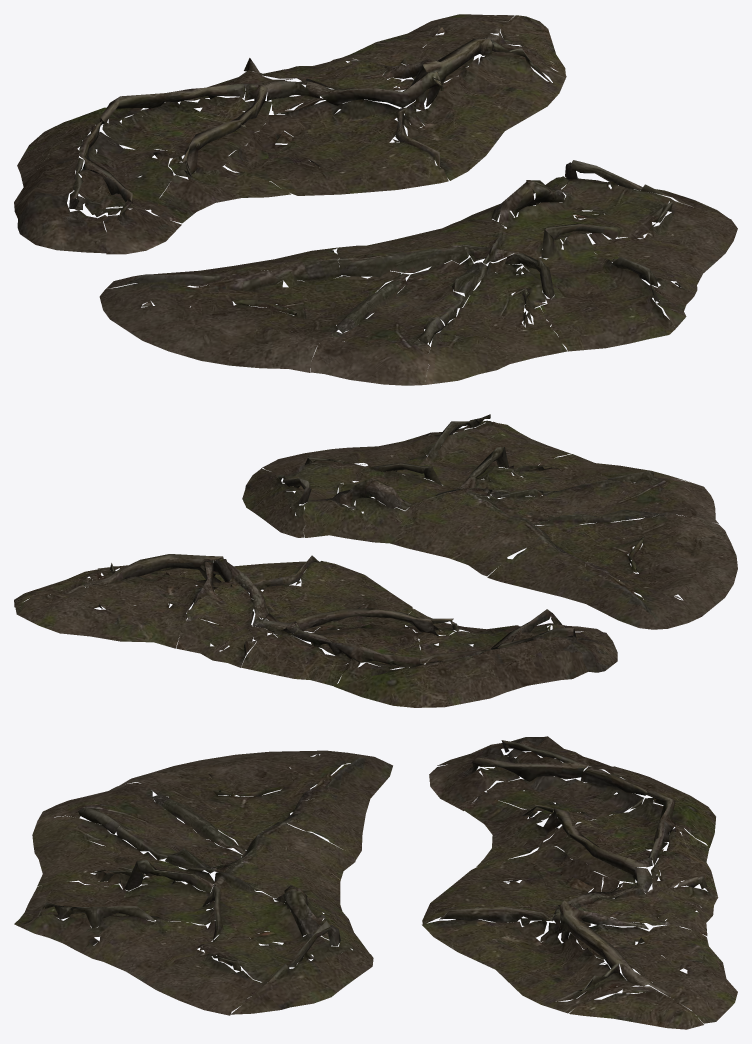
File: pine_roots.glb
3 renders of one model, top to bottom at view 1: azimuth 30°, elevation 25°; view 2: azimuth 150°, elevation 25°; view 3: azimuth 270°, elevation 25°, orthographic. The views are drawn at different scales.
Parts seen in each view (by area): view 1: pine_roots_b, pine_roots_a; view 2: pine_roots_b, pine_roots_a; view 3: pine_roots_b, pine_roots_a.
Part boxes in pixels (x1,y1,x2,y2): pine_roots_b: (99,160,737,385); pine_roots_a: (14,14,566,254); pine_roots_b: (242,414,737,629); pine_roots_a: (14,554,617,707); pine_roots_b: (14,750,392,1015); pine_roots_a: (422,736,737,1029).
Size of the model in its own units: 1.77 by 0.1574 by 1.89.
Materials: 2 (2 with a texture image).
